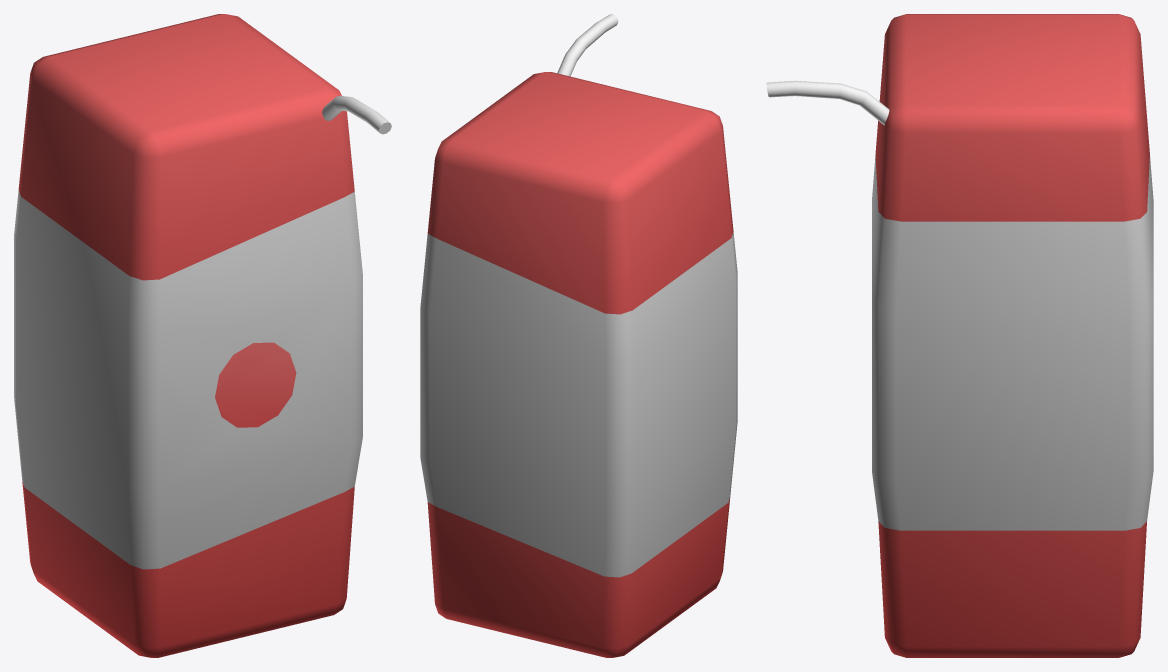
File: Juice Carton_1.fbx
The picture shows the model from 3 angles, left to right: view 1: azimuth 30°, elevation 25°; view 2: azimuth 150°, elevation 25°; view 3: azimuth 270°, elevation 25°; orthographic projection. The views are drawn at different scales.
Parts seen in each view (by area): view 1: Juice Carton_1; view 2: Juice Carton_1; view 3: Juice Carton_1.
Boxes of the visible parts, x1,y1,x2,y2 form: Juice Carton_1: [14, 14, 391, 657]; Juice Carton_1: [420, 14, 737, 657]; Juice Carton_1: [766, 14, 1153, 657].
Size of the model in its own units: 0.0356 by 0.0797 by 0.049.
